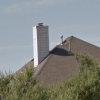Chimney: (26, 13, 59, 75)
